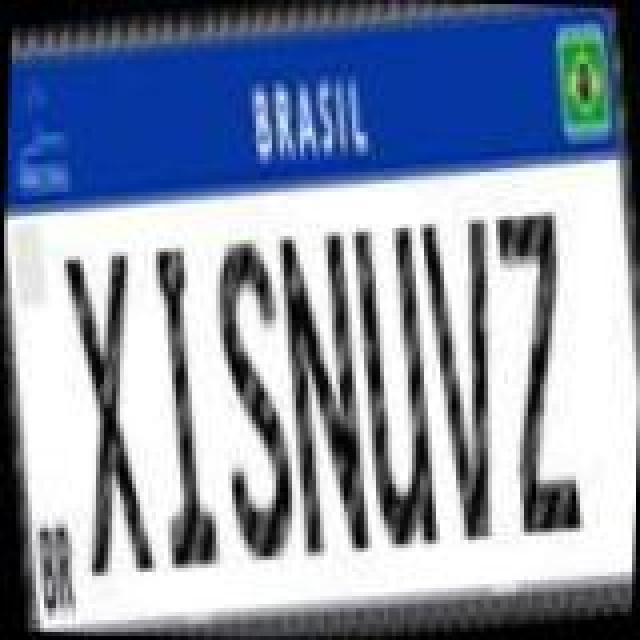I: (128, 238, 232, 574)
N: (264, 226, 380, 562)
S: (196, 226, 312, 566)
U: (336, 214, 452, 554)
V: (404, 208, 520, 548)
X: (48, 242, 168, 582)
Z: (478, 202, 590, 542)
